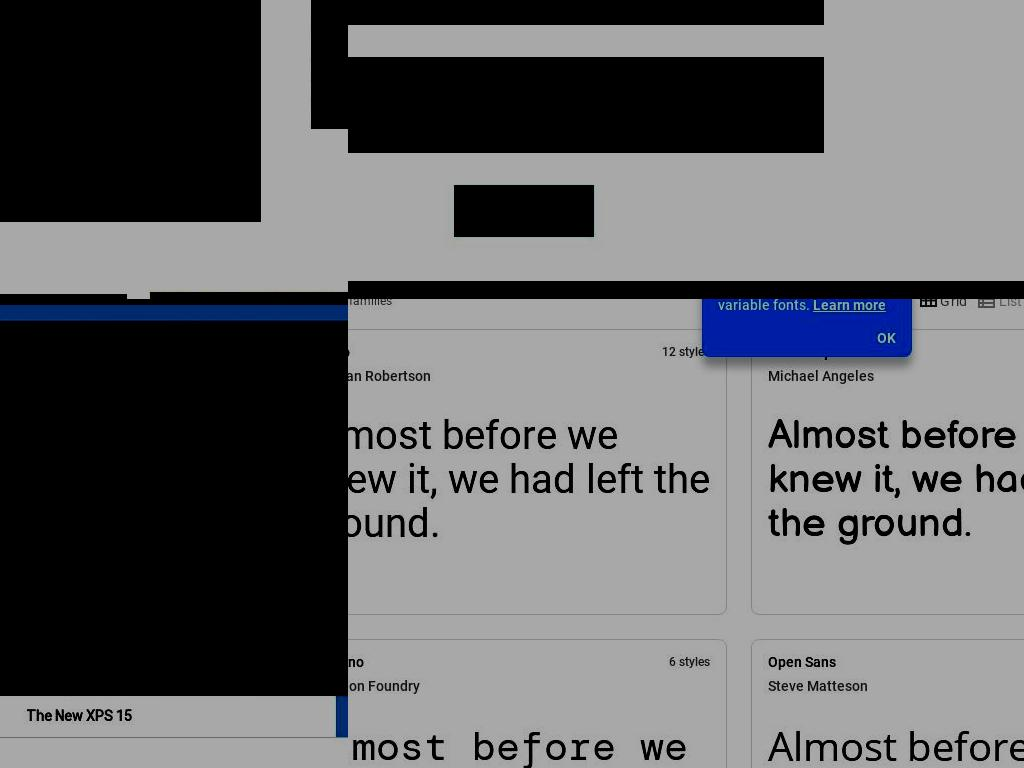button: (348, 330, 726, 614), (752, 330, 1024, 614), (0, 0, 261, 222), (348, 640, 726, 768), (0, 413, 254, 580), (752, 640, 1024, 768), (0, 695, 335, 737), (454, 185, 594, 237), (95, 589, 201, 628), (0, 589, 85, 628), (63, 321, 157, 351), (157, 321, 249, 351), (249, 321, 324, 351), (0, 321, 63, 351), (324, 321, 348, 351)
heading: (0, 413, 254, 510), (348, 366, 710, 410), (348, 676, 710, 720), (0, 519, 254, 580), (768, 366, 1024, 410), (768, 676, 1024, 720), (348, 342, 710, 362), (348, 652, 710, 672), (768, 342, 1024, 362), (768, 652, 1024, 672)
image: (0, 351, 348, 696), (0, 0, 261, 172), (916, 299, 941, 313), (975, 299, 1000, 313)
link: (348, 414, 726, 546), (752, 414, 1024, 546), (348, 724, 726, 768), (752, 724, 1024, 768), (813, 299, 886, 313), (877, 330, 896, 346)
text: (348, 57, 824, 153), (718, 299, 891, 313), (472, 201, 576, 221), (873, 299, 909, 319), (679, 345, 710, 359), (679, 655, 710, 669), (348, 299, 392, 308), (940, 299, 968, 309), (999, 299, 1024, 309), (662, 345, 679, 359), (669, 655, 679, 669)
